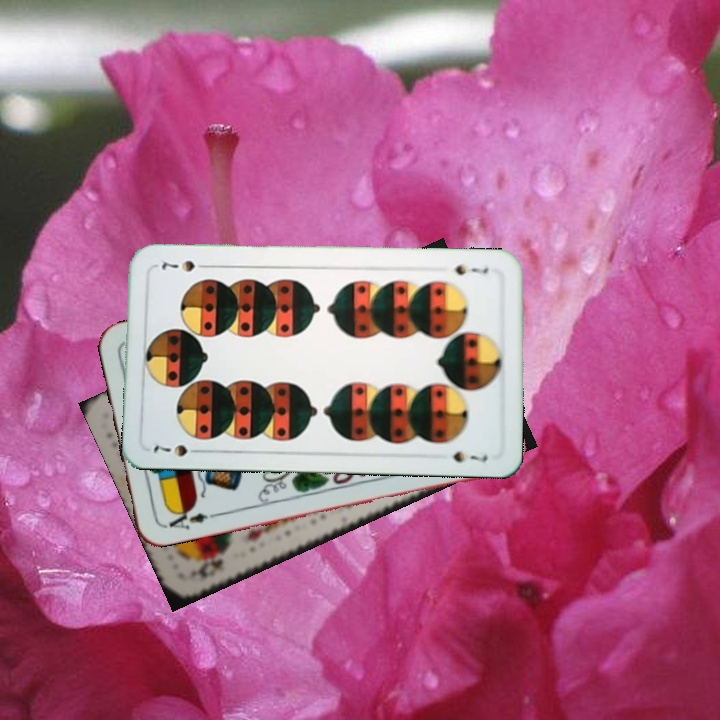EA: (159, 504, 218, 533)
S7: (150, 440, 206, 459), (446, 261, 491, 278)
SK: (189, 552, 226, 581)
